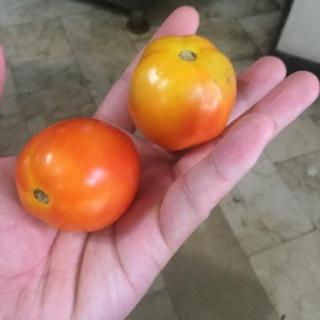Tomat: (6, 113, 157, 250), (126, 29, 240, 146)
